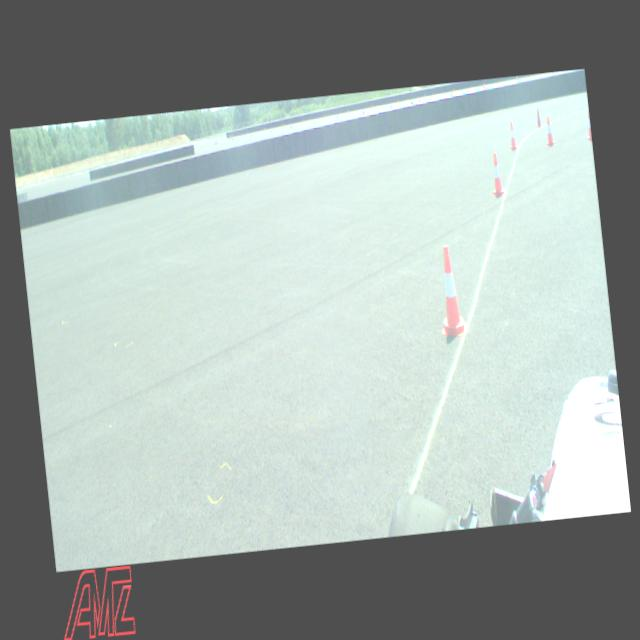orange_cone: (432, 244, 467, 338), (488, 152, 504, 196), (544, 115, 554, 147), (508, 120, 518, 150), (584, 111, 592, 140)
unknown_cone: (535, 106, 541, 128)
